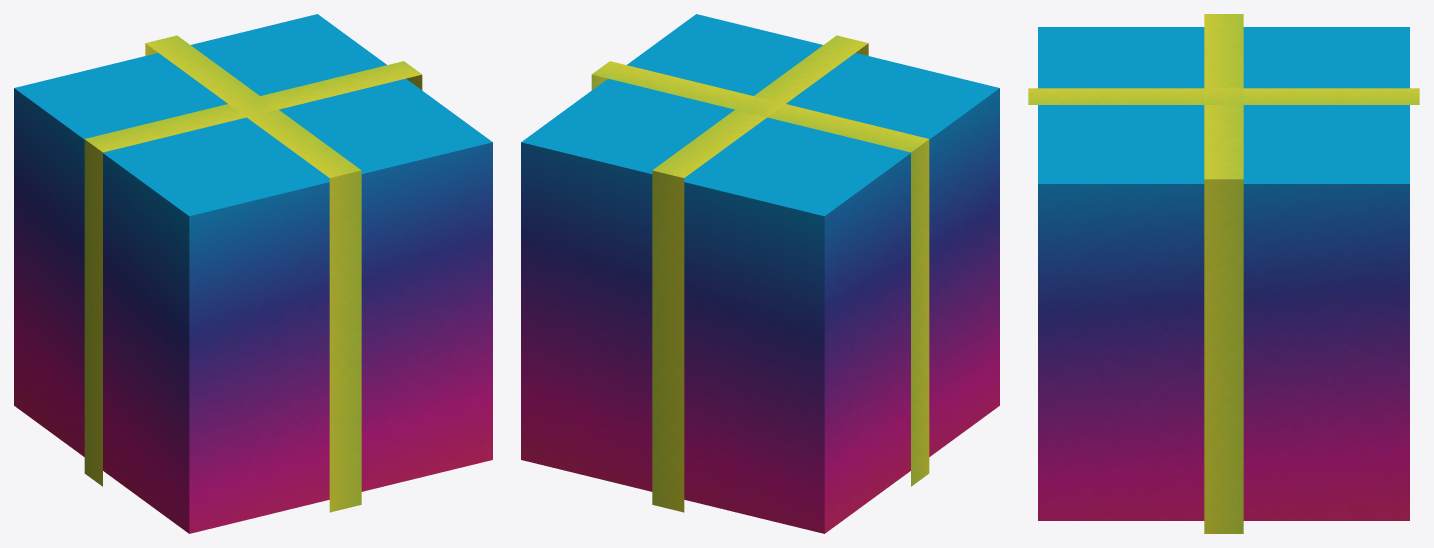
File: Present.obj
3 views of the same model, side by side, from view 1: azimuth 30°, elevation 25°; view 2: azimuth 150°, elevation 25°; view 3: azimuth 270°, elevation 25° (orthographic). The views are drawn at different scales.
Parts seen in each view (by area): view 1: Cube; view 2: Cube; view 3: Cube.
Boxes of the visible parts, <box> form: Cube: <box>14,14,492,533</box>; Cube: <box>521,14,999,533</box>; Cube: <box>1028,14,1419,533</box>.
Size of the model in its own units: 2 by 2 by 2.
Materials: 1 (1 with a texture image).
